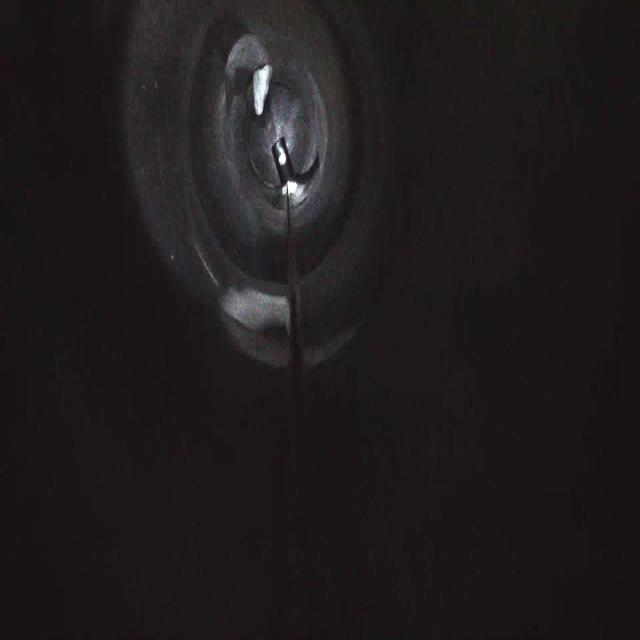impurity: (248, 57, 278, 117)
